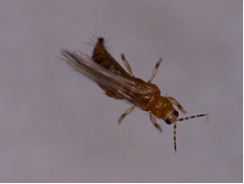Thripidae: (57, 30, 209, 155)
